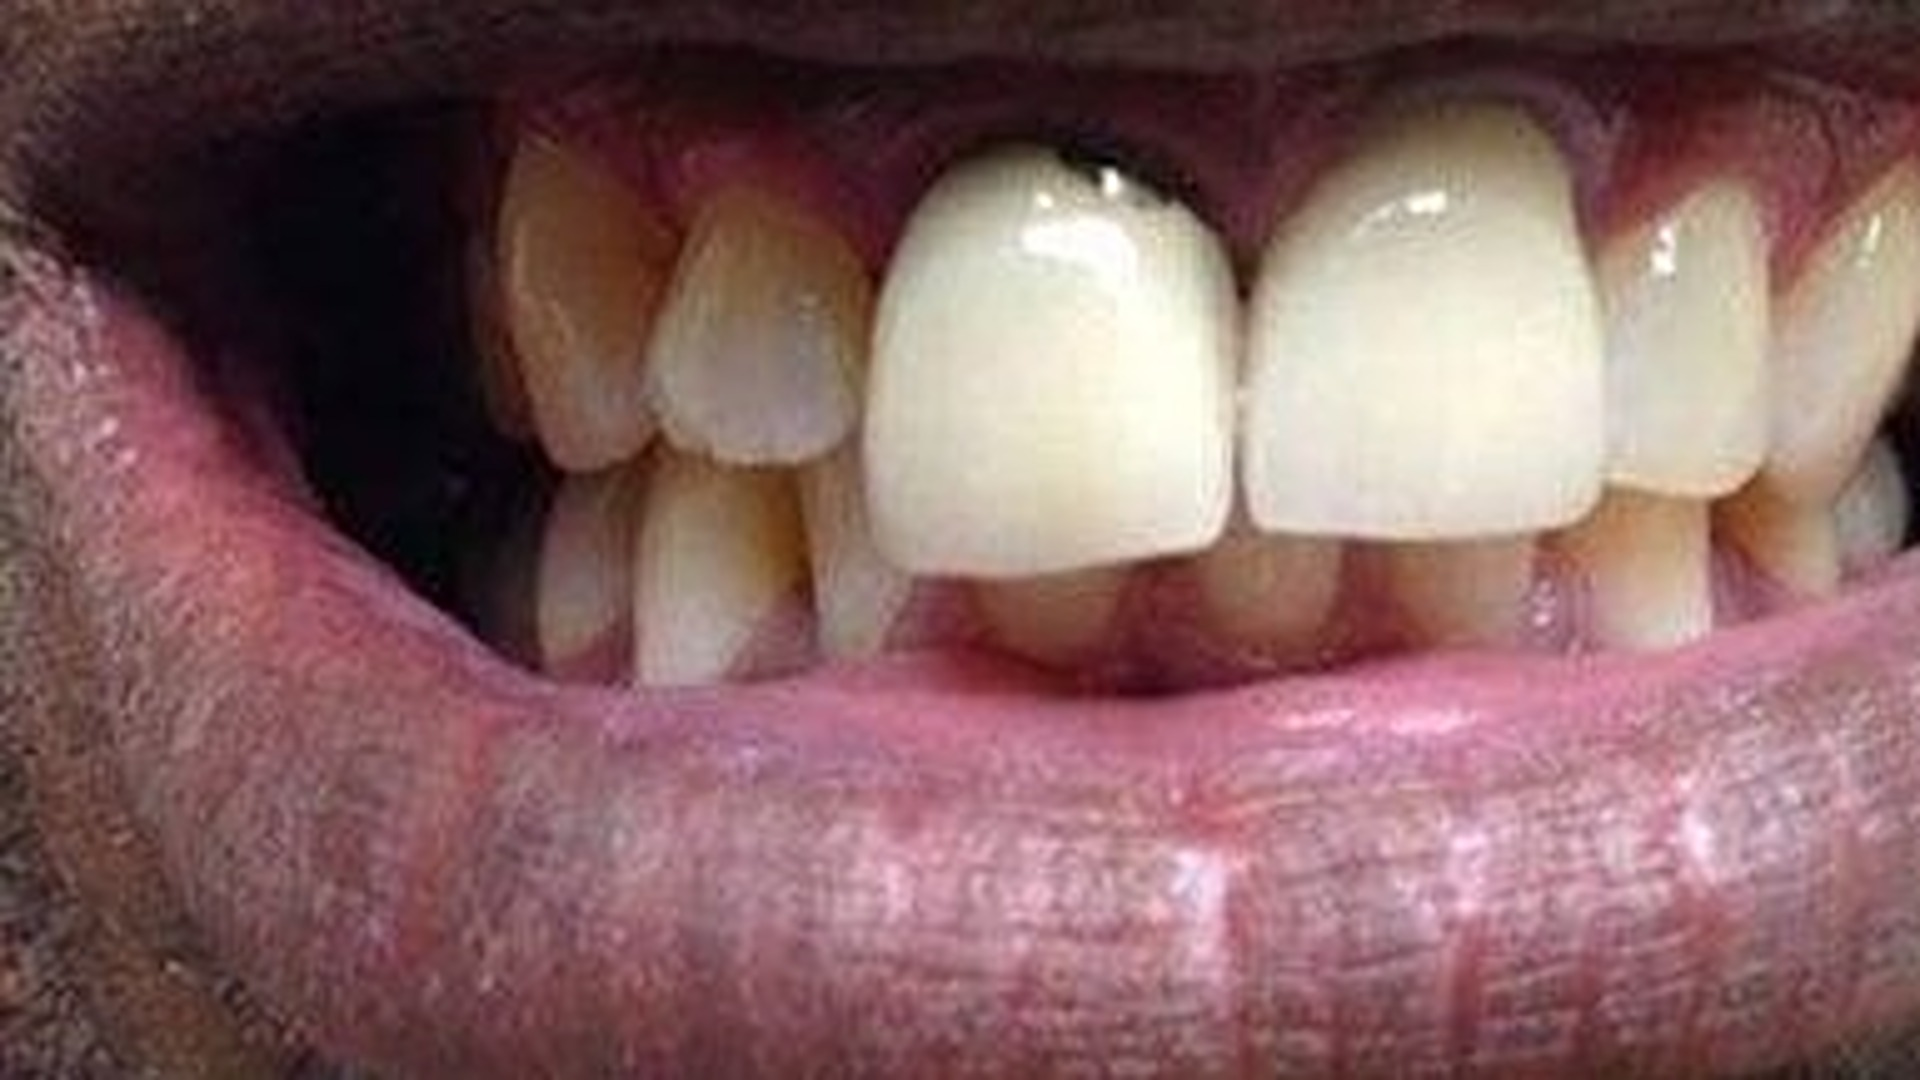tooth: (861, 142, 1244, 578), (1240, 100, 1606, 541), (642, 185, 876, 468), (495, 127, 679, 472), (1596, 177, 1775, 500), (1762, 149, 1917, 506), (633, 454, 818, 684), (1575, 489, 1718, 654), (1386, 530, 1534, 645)
